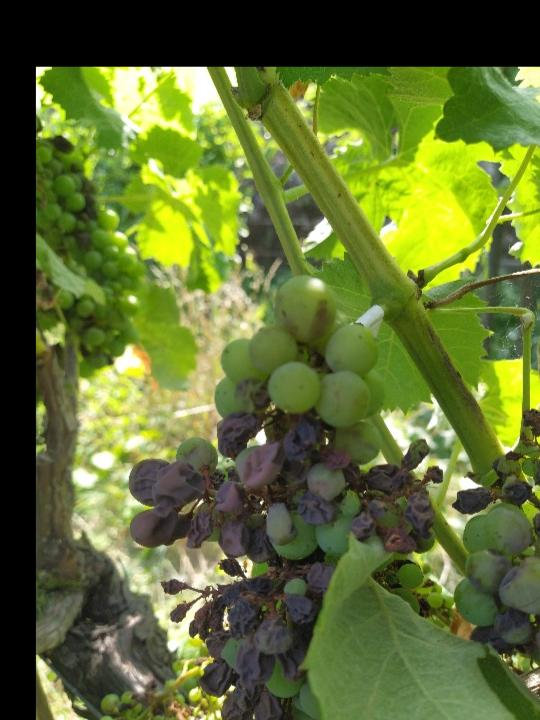grape: (123, 270, 446, 720), (40, 135, 142, 371)
